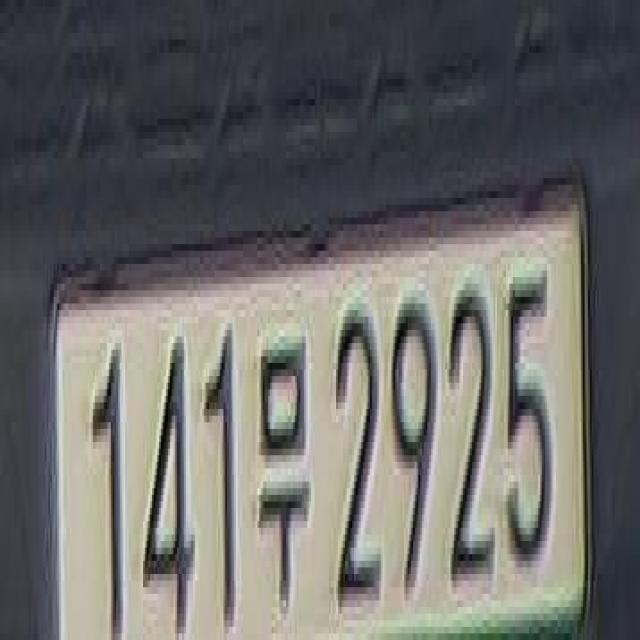illegal_plate: (52, 213, 600, 632)
